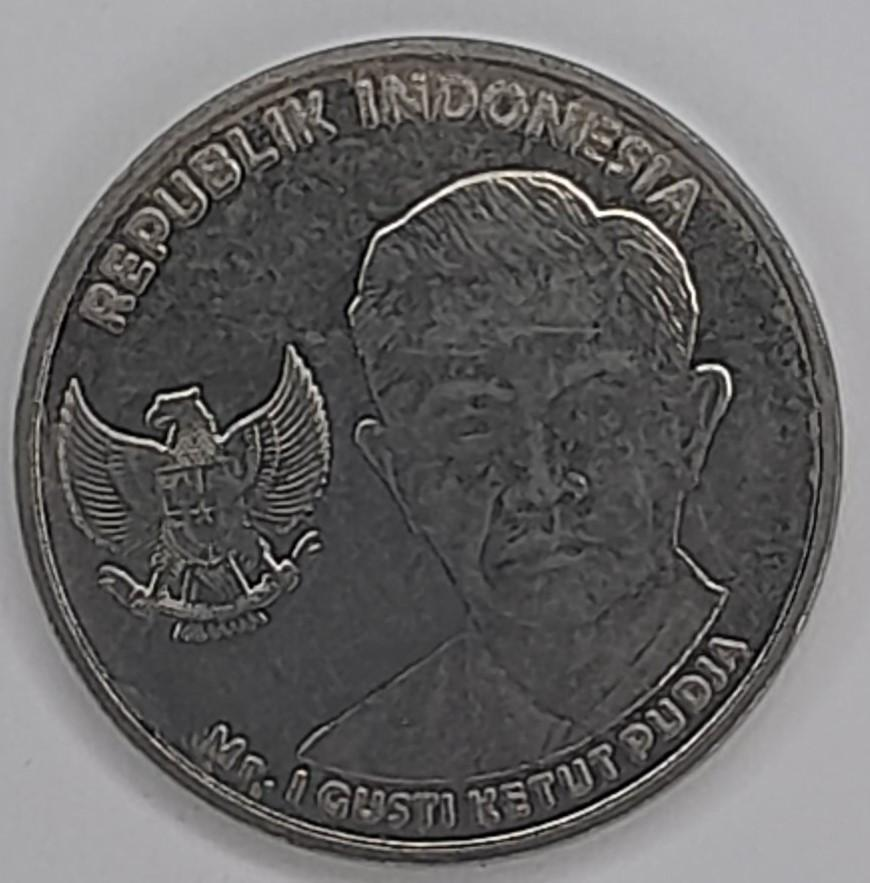coin_1000_e2016: (15, 17, 858, 883)
